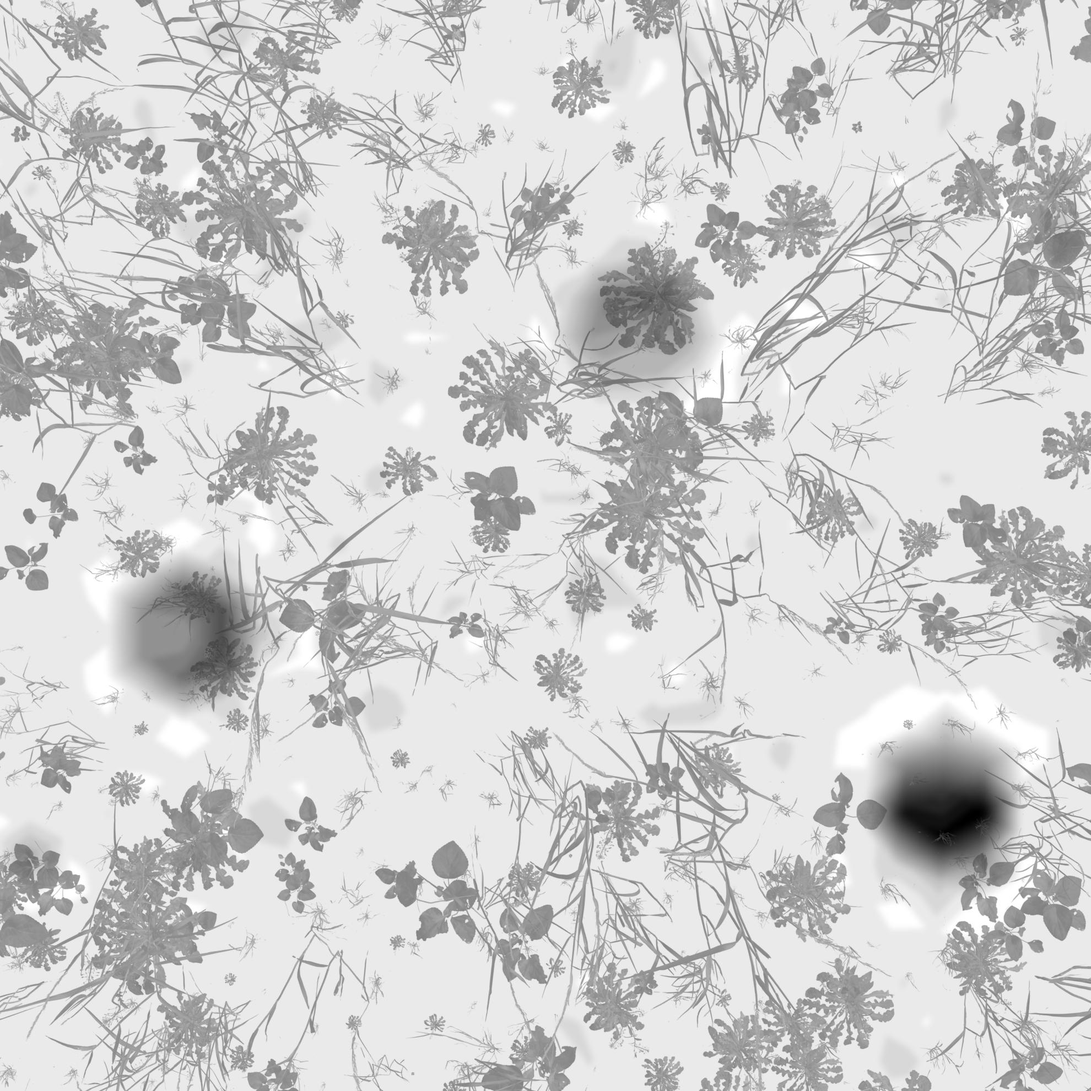landmine: (118, 543, 284, 718), (541, 230, 717, 394), (868, 729, 1031, 885)
